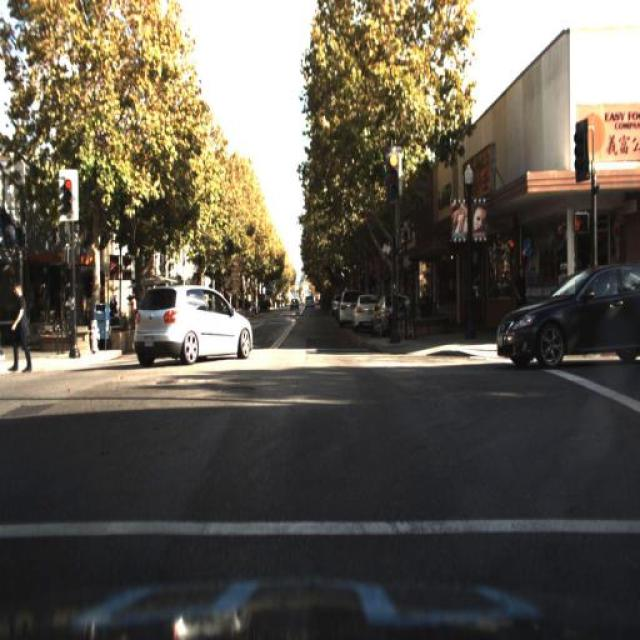car: (495, 254, 637, 376), (489, 269, 639, 370), (115, 278, 266, 371), (372, 294, 412, 340), (348, 292, 378, 336), (352, 300, 377, 330), (339, 292, 350, 328), (302, 292, 316, 312)
trafficLight: (6, 280, 32, 374), (513, 264, 529, 328), (516, 260, 528, 324)
trafficLight-RedLeft: (59, 171, 79, 219), (386, 148, 402, 203), (59, 174, 75, 223)
